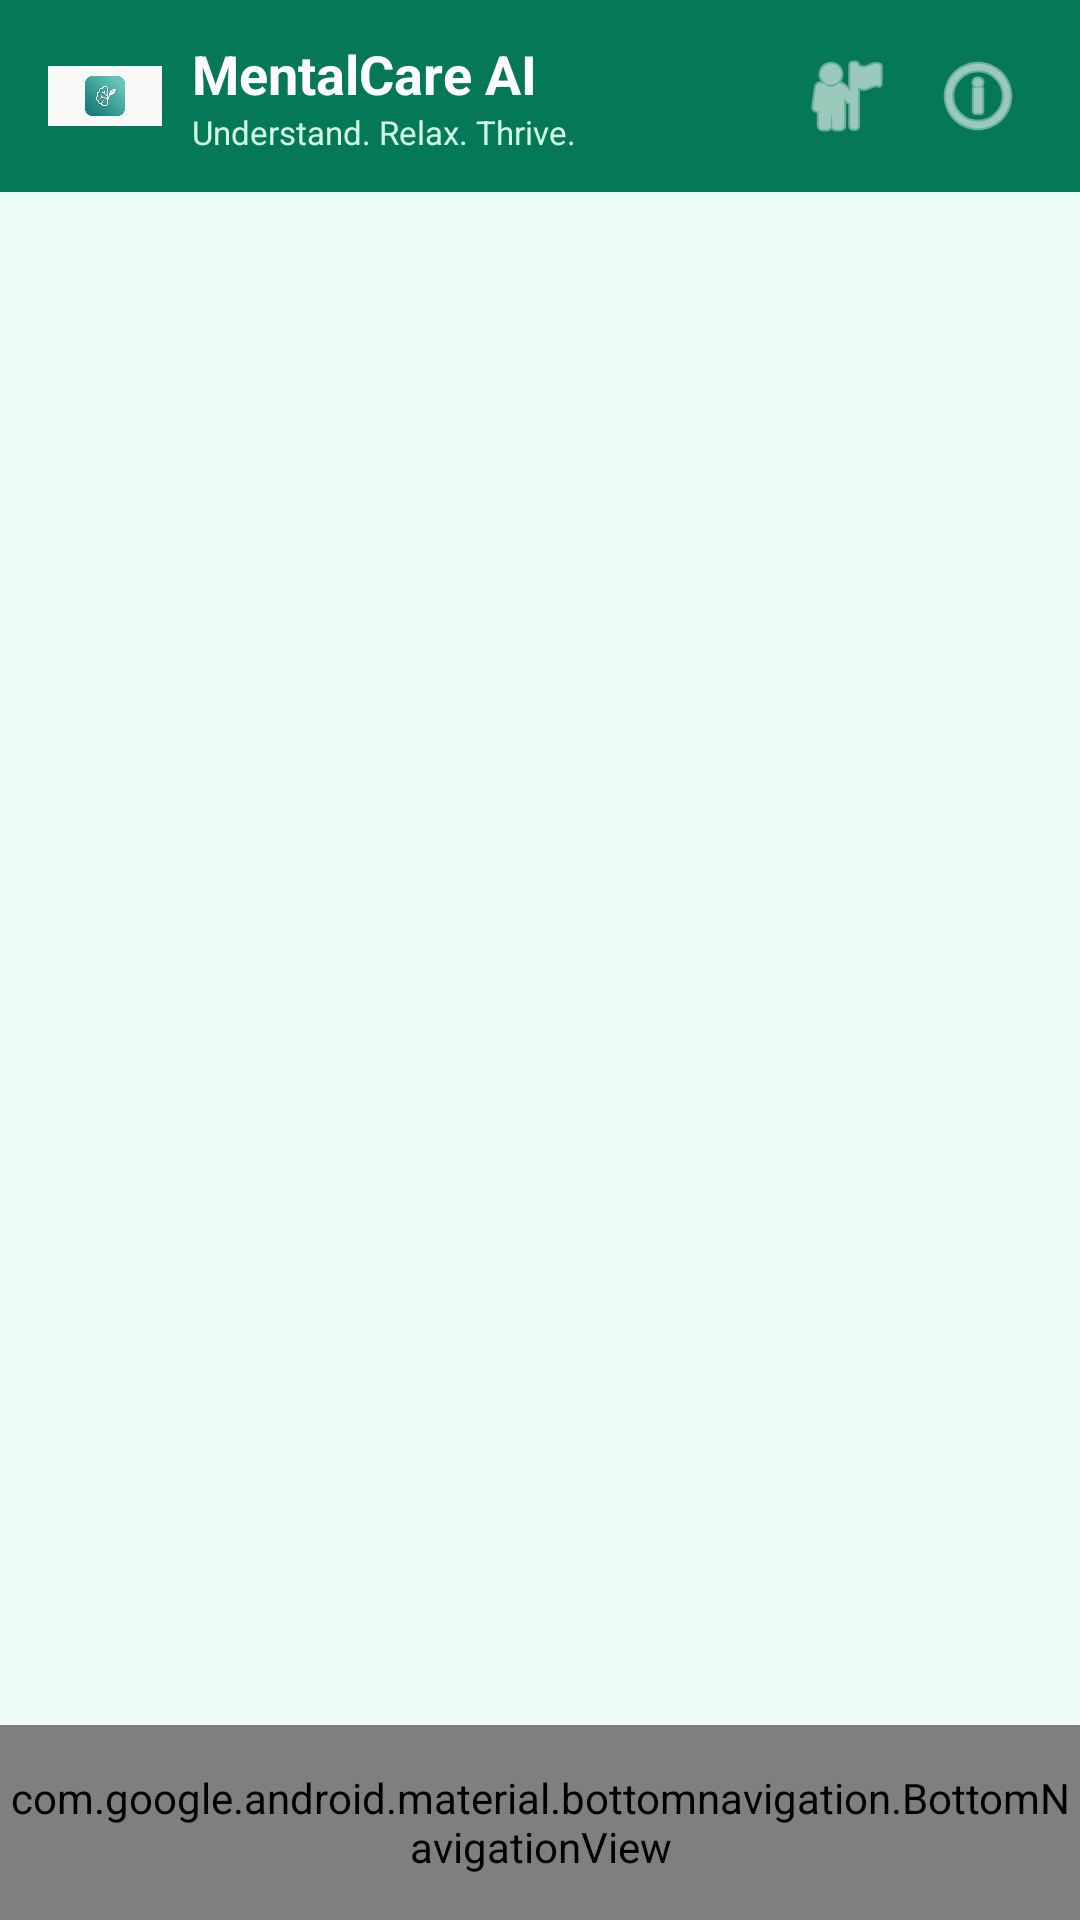

Point at icon controls on the screen. Image size 1080px×1920px, points as (x,y).
About: (978,96)
Profile: (847,96)
